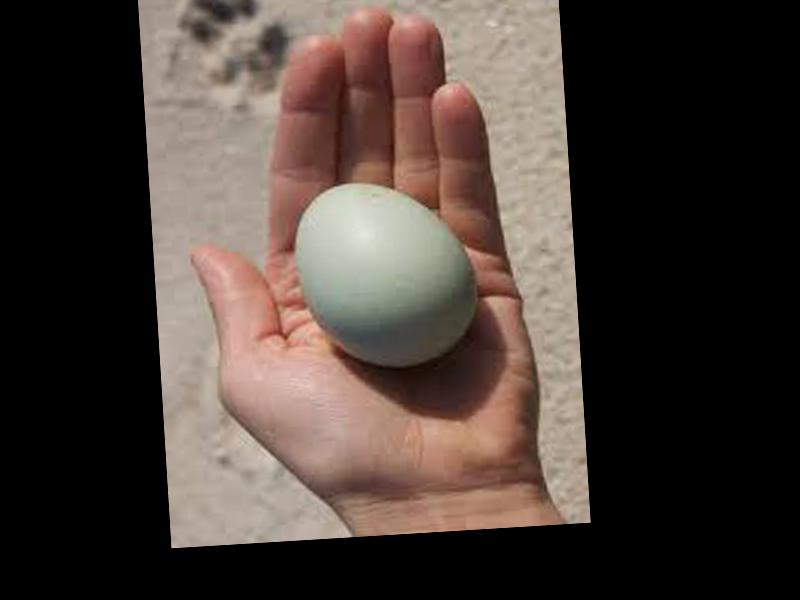Eggs: (295, 180, 481, 368)
